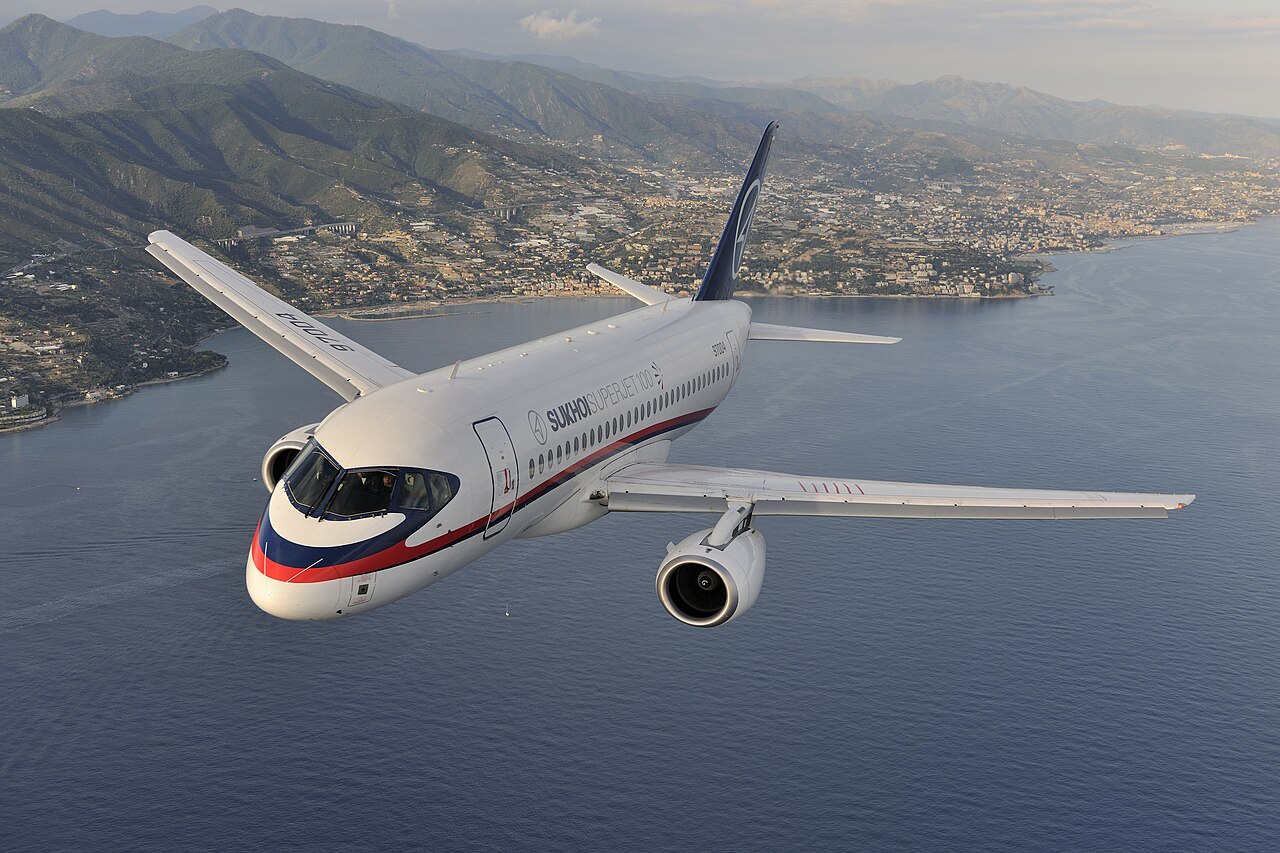aircraft: (145, 104, 1197, 630)
